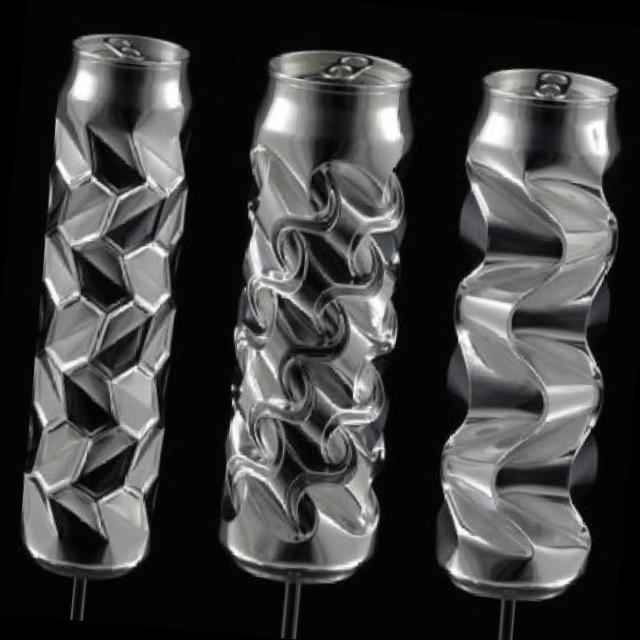Kaleng: (210, 41, 425, 592), (12, 26, 204, 586), (428, 77, 620, 605)
